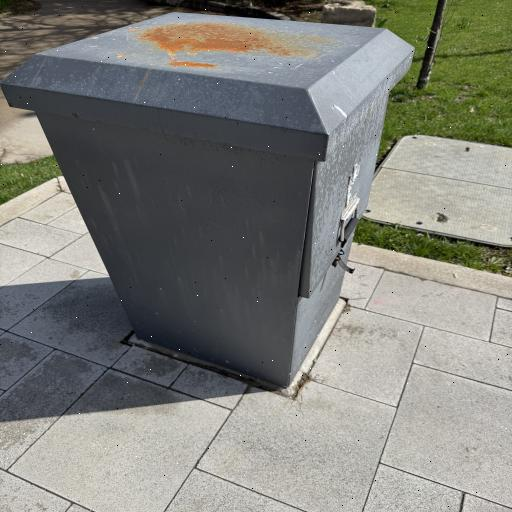Electrical Box: (1, 10, 417, 386)
